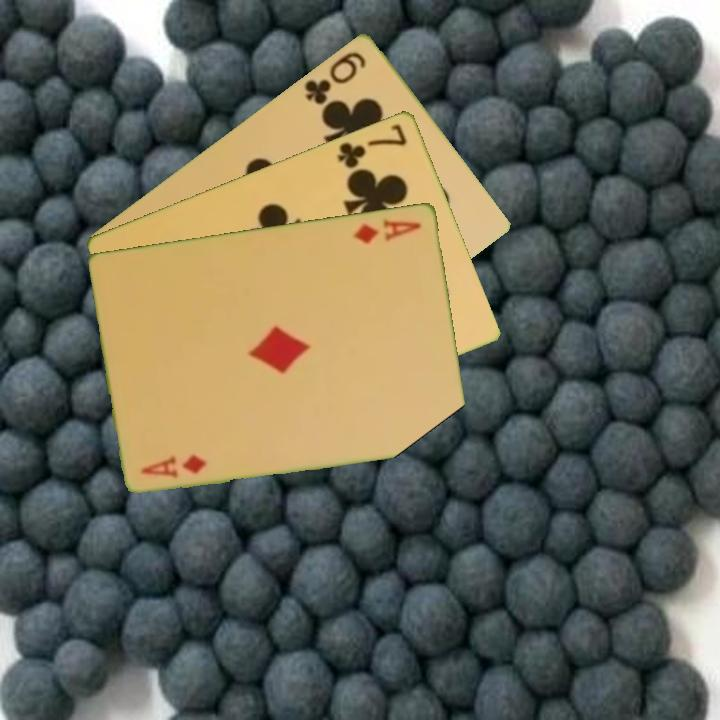6c: (300, 47, 369, 108)
7c: (334, 120, 411, 171)
Ad: (350, 215, 425, 247), (138, 450, 210, 480)
